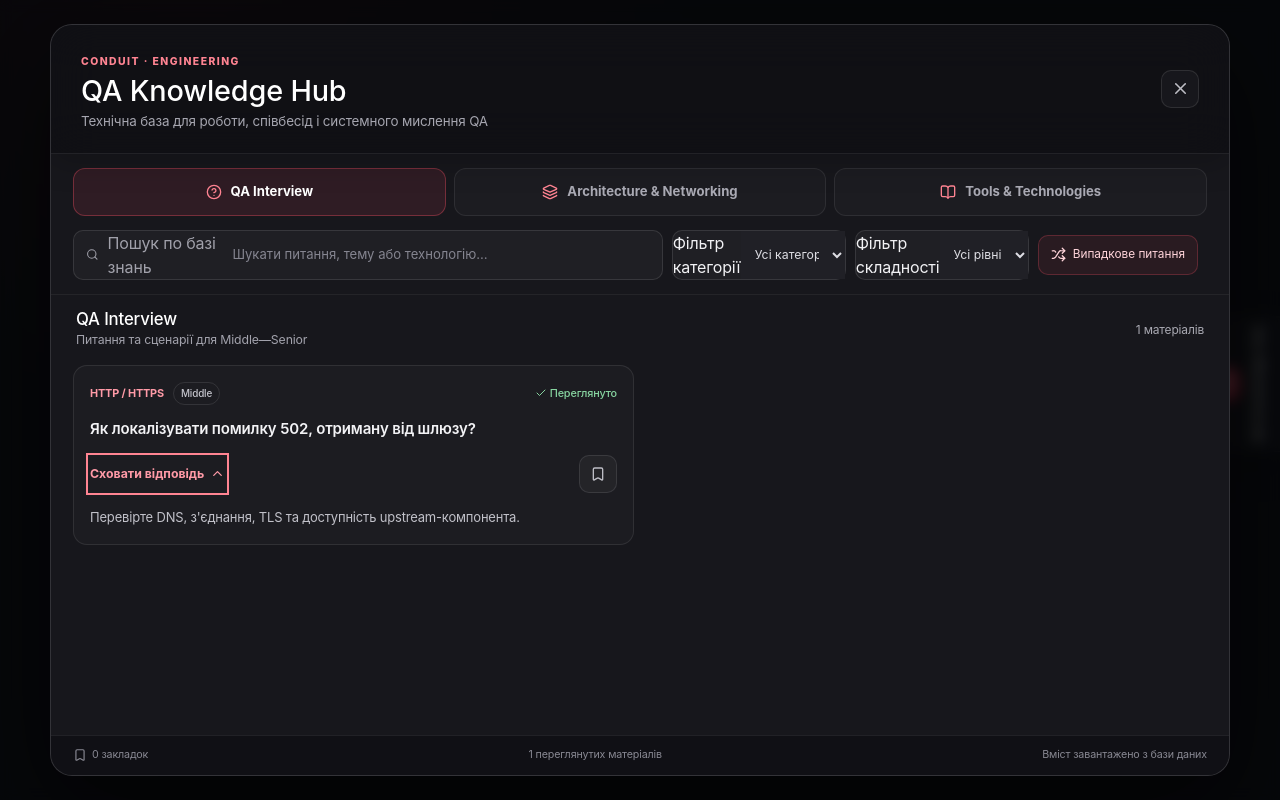
Test: QA Knowledge Hub › reveals interview answers, filters by difficulty and searches other sections
The width and height of the screenshot is (1280, 800).
Earlier steps of the test are not shown.
Later steps or results of the test are not shown.
Check: the text "Перевірте DNS" is shown, box 90,509 -> 520,525
Select "Strong Junior" in the dropdown labelled "Фільтр складності" at [984, 255], box 940,231 -> 1028,279
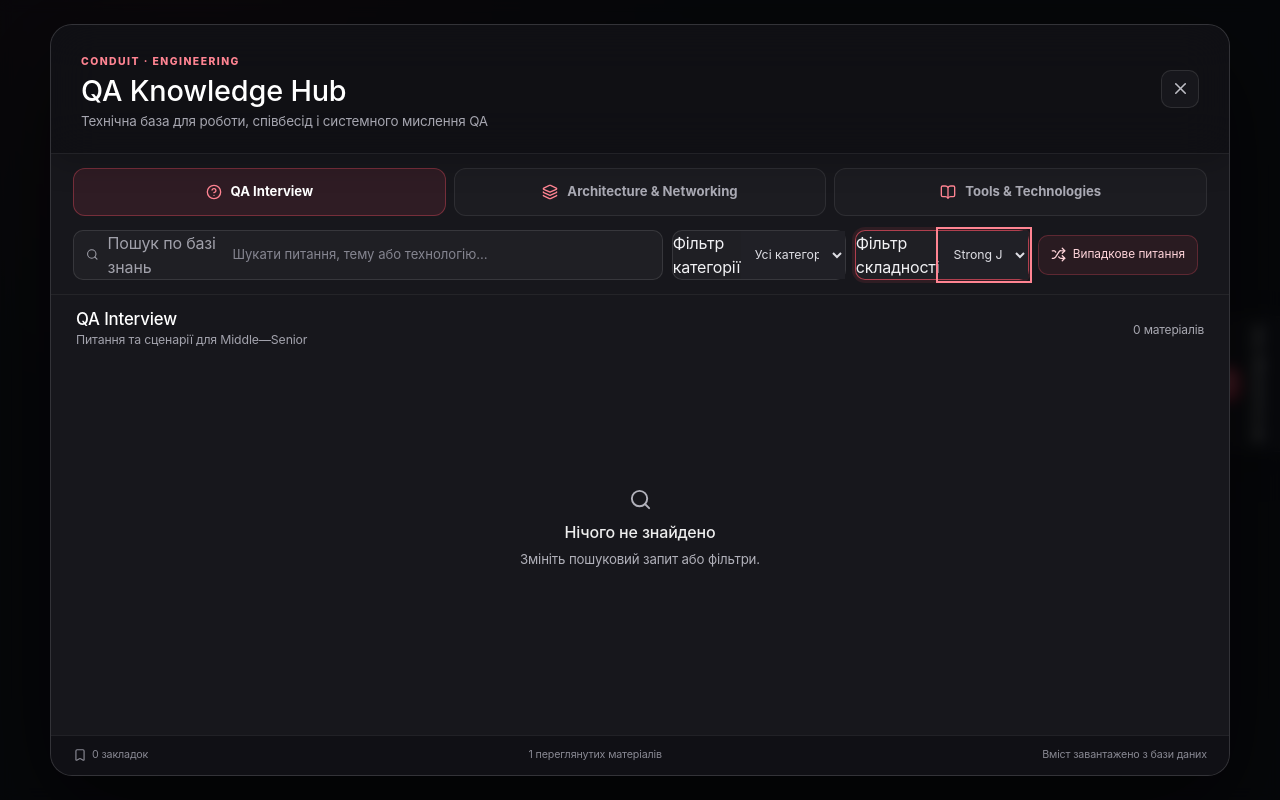
Check: the heading "Нічого не знайдено" is shown, box 565,524 -> 715,542
Select "Усі рівні" in the dropdown labelled "Фільтр складності" at [984, 255], box 940,231 -> 1028,279
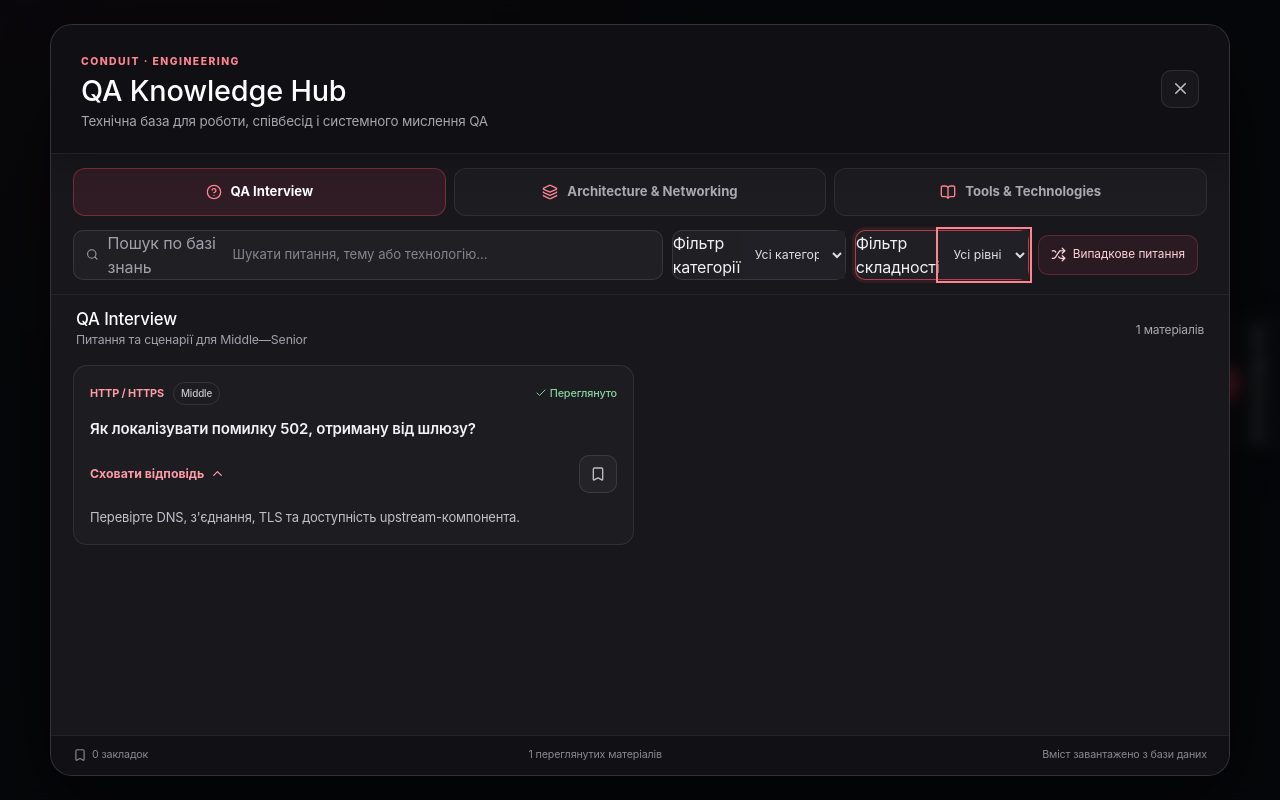
Type "Redis cache" into the field labelled "Пошук по базі знань" at [441, 255], box 232,235 -> 650,275
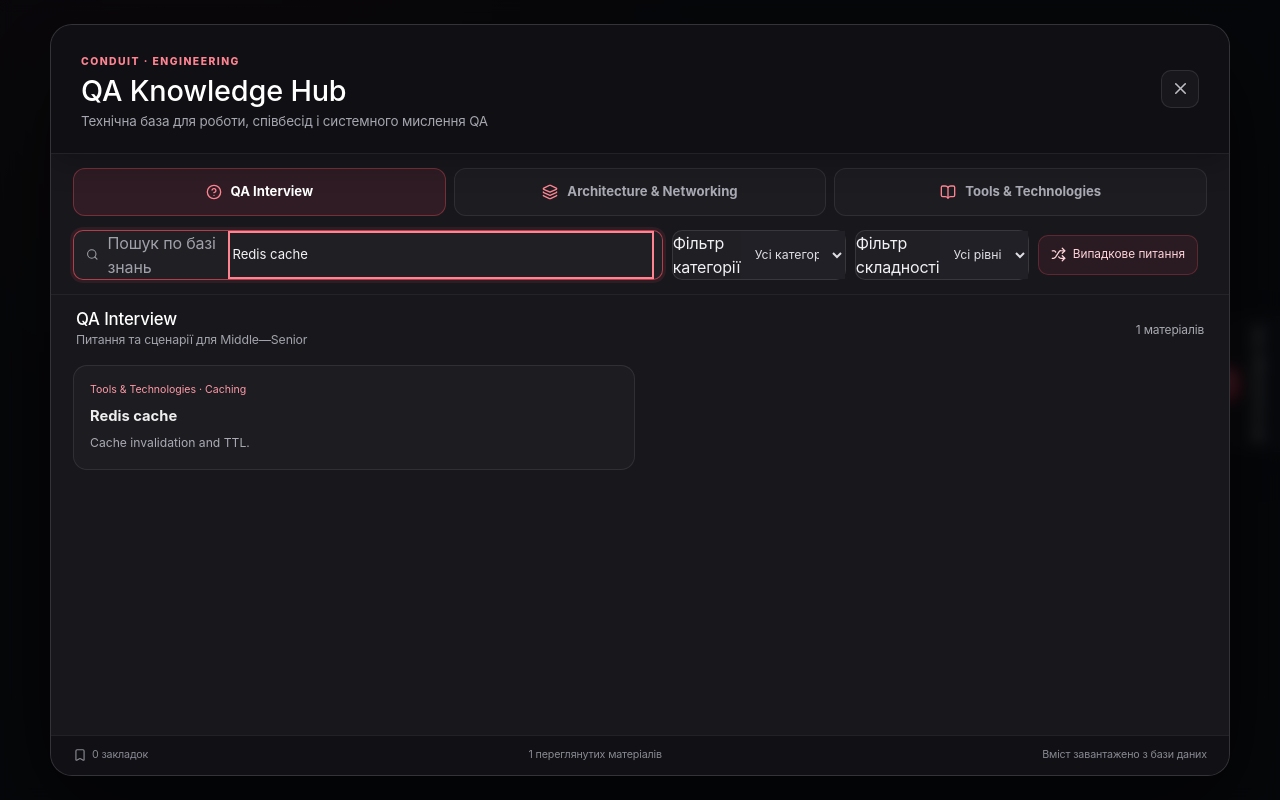
Check: the button "Tools & Technologies" is shown, box 73,365 -> 635,470
